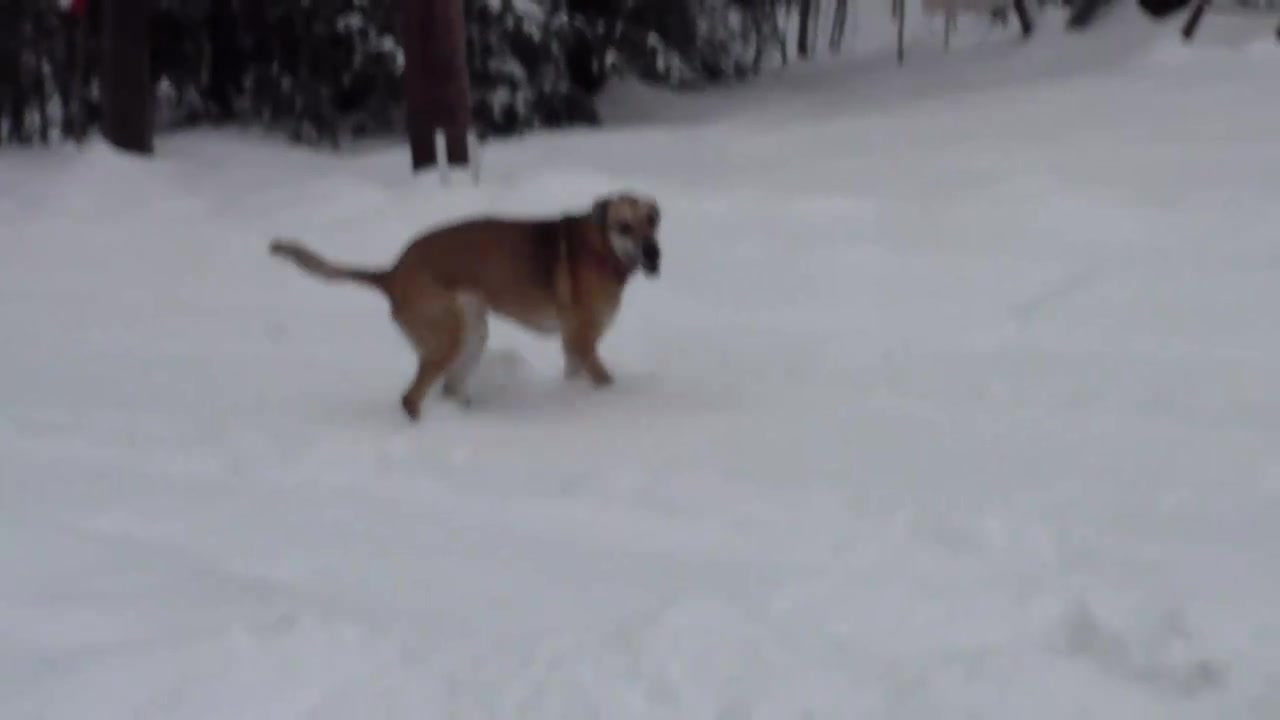dog: (267, 193, 668, 424)
